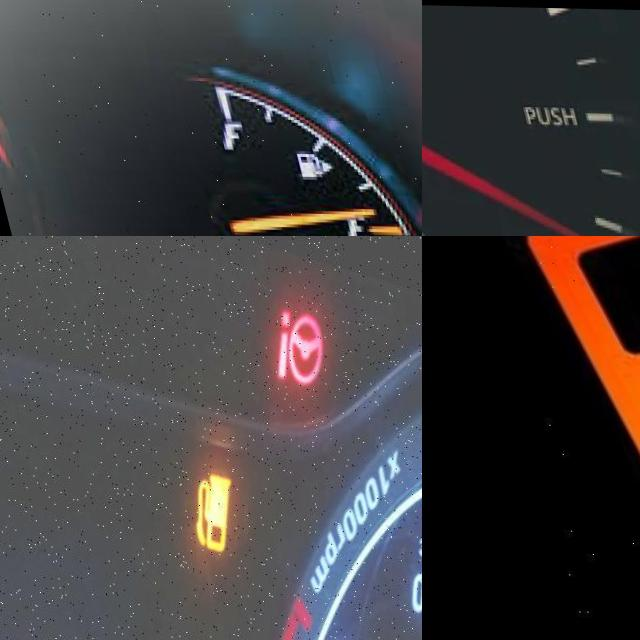Electronic Power Steering: (231, 274, 361, 415)
